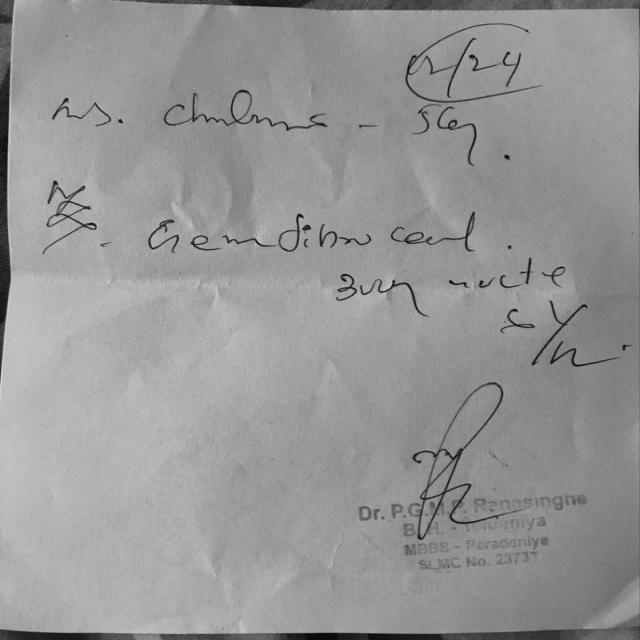Prescription: (145, 212, 608, 372)
